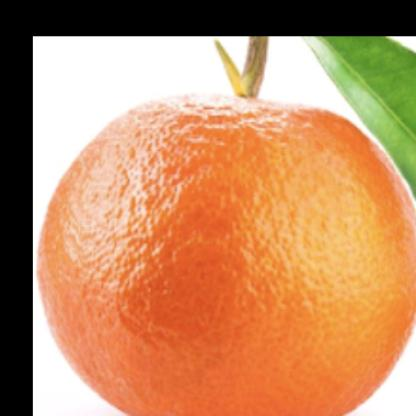fresh: (35, 94, 416, 416)
